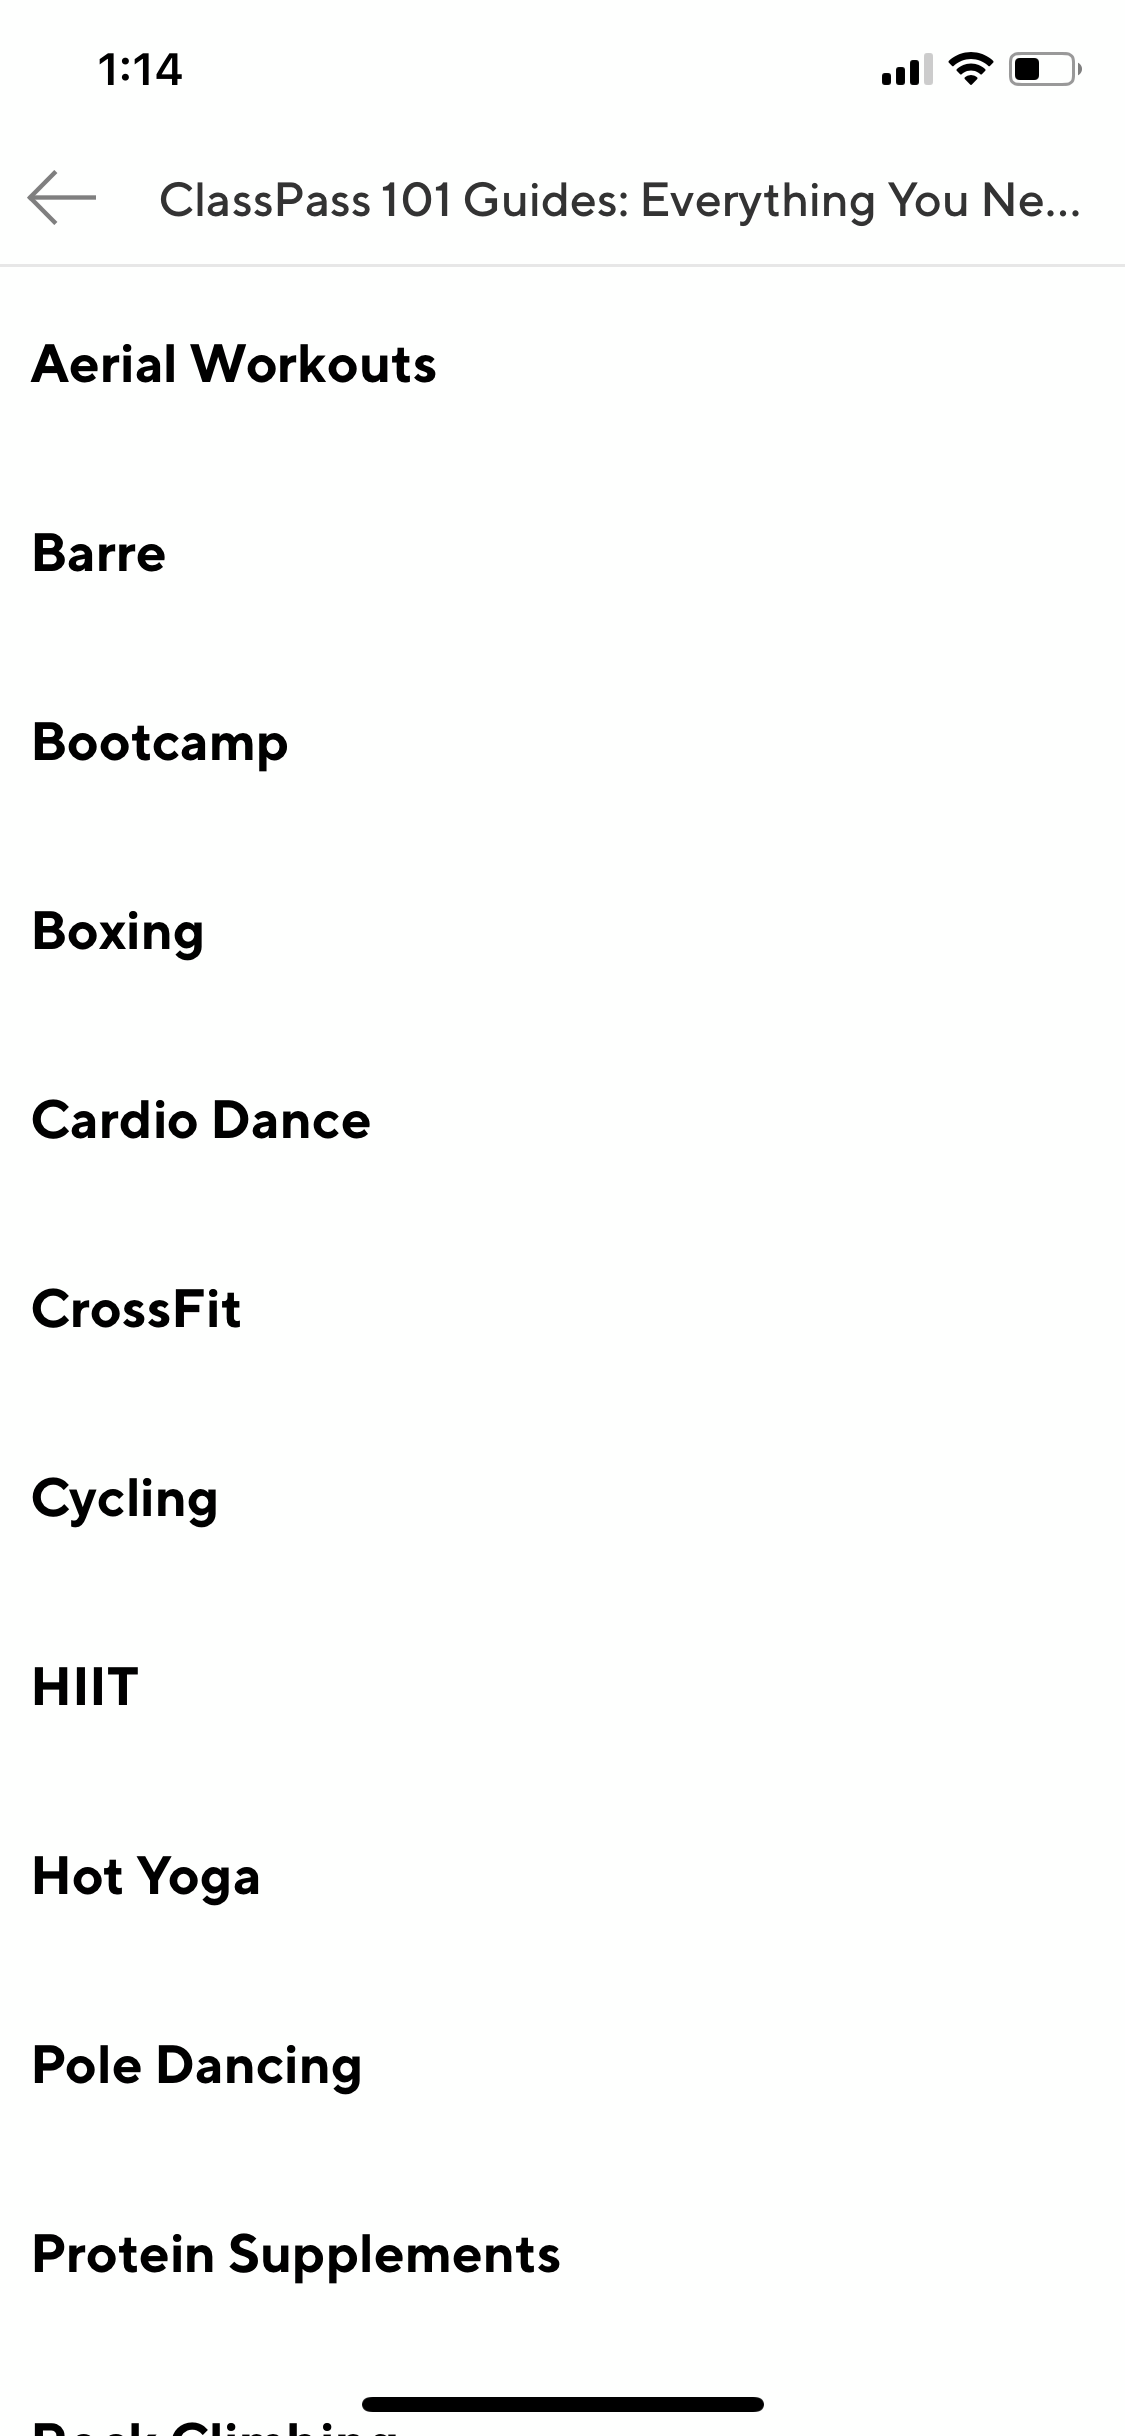Buttons: (2, 132, 117, 259)
